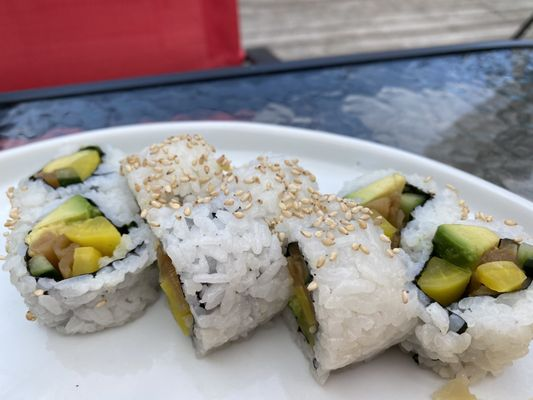soup: (1, 145, 161, 336)
